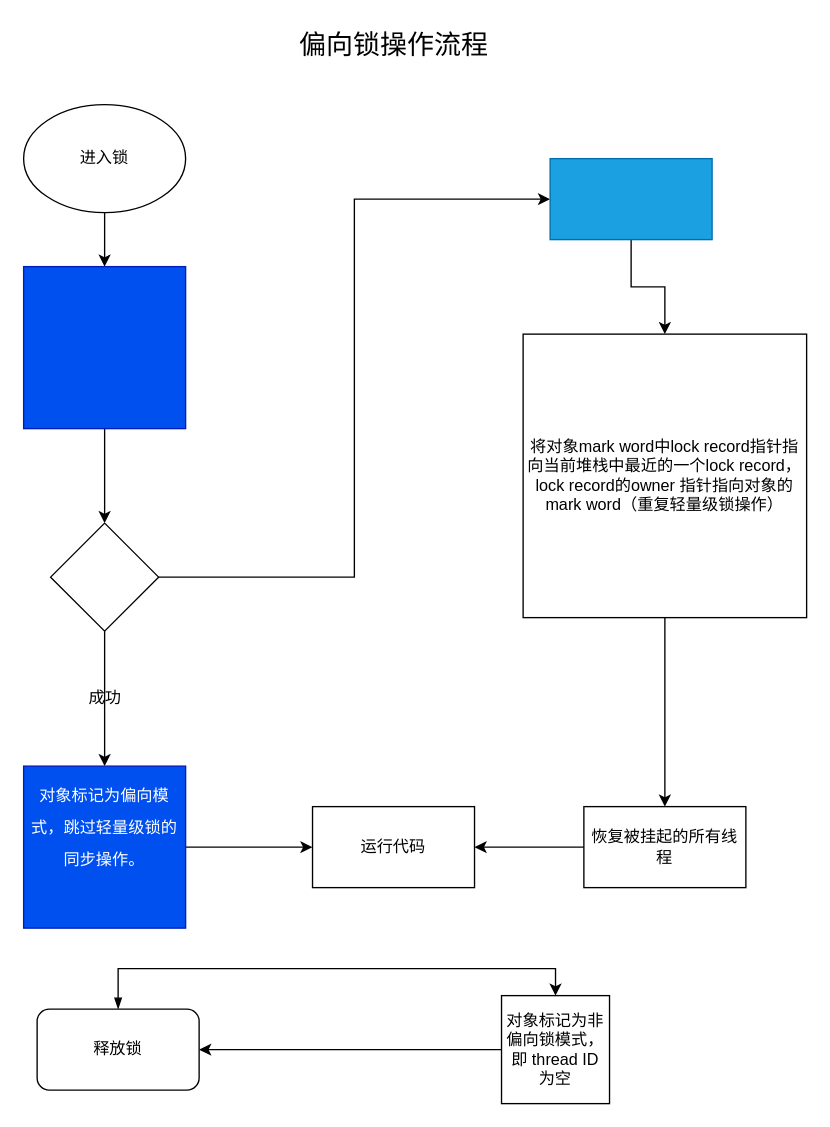
The diagram is 830 pixels wide and 1127 high, and some of its shapes have lost their labels. The shapes that lost their labels are listed below. From the top down, each one's centre as x and y in pixels, then its label:
the point at 630,198: 挂起持有偏向锁线程
the point at 104,347: cas替换对象mark wod中ThreadID为当前线程id（偏向）
the point at 104,576: 替换是否成功
